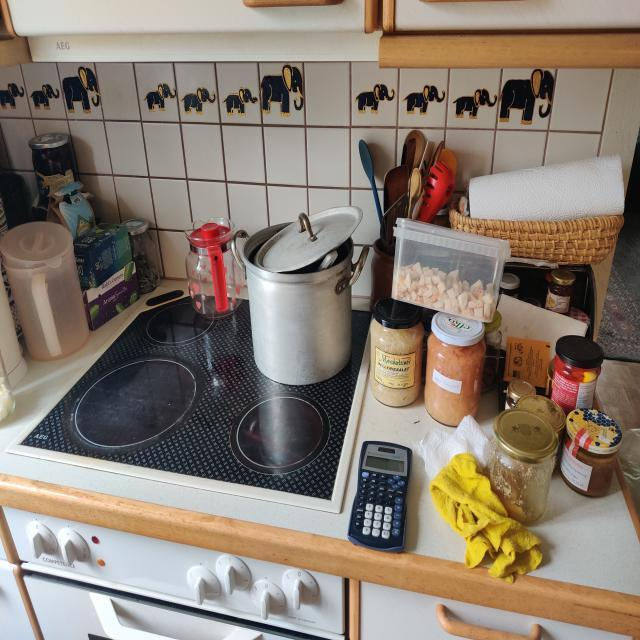Calculator: (348, 441, 412, 553)
